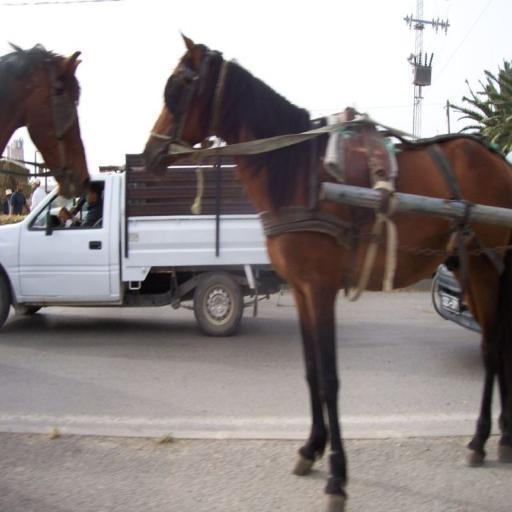horse: (138, 27, 512, 511), (0, 40, 90, 200)
